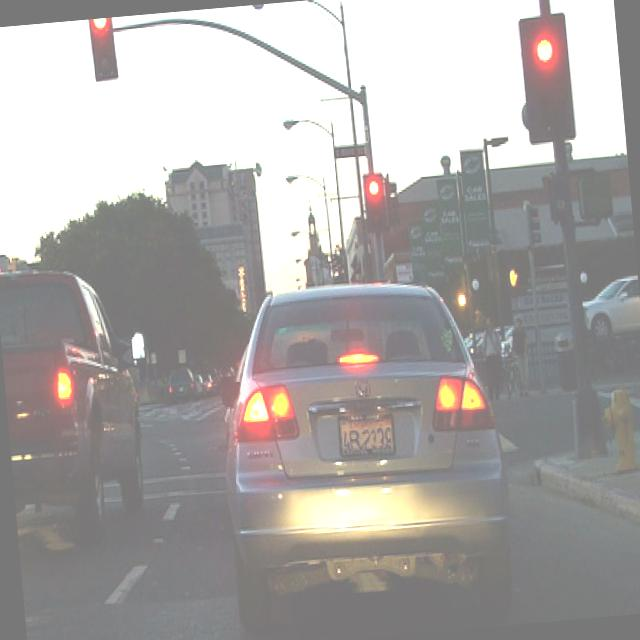Vehicle: (203, 269, 528, 640), (0, 267, 150, 535), (581, 277, 640, 342), (192, 373, 208, 399), (467, 333, 484, 353), (202, 372, 216, 394)
